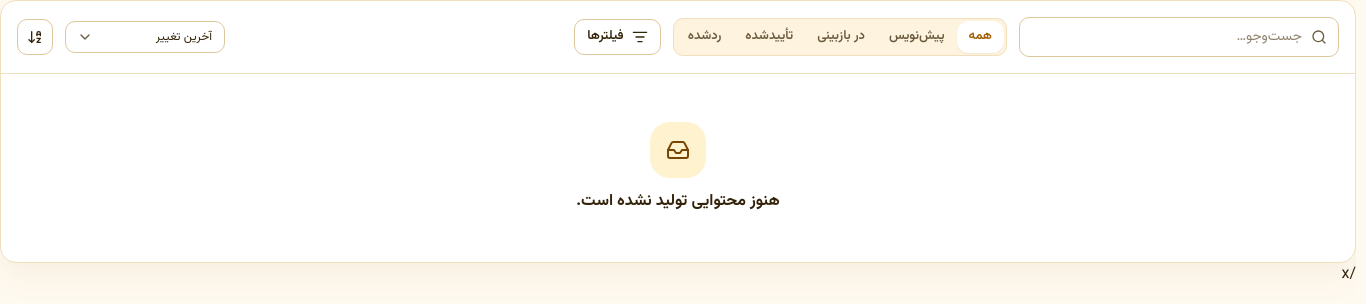
Test: ContentsTable filters › turns the status shortcut into a one-status filter
Click the button "در بازبینی".
click(841, 37)  # box [805,21,877,53]
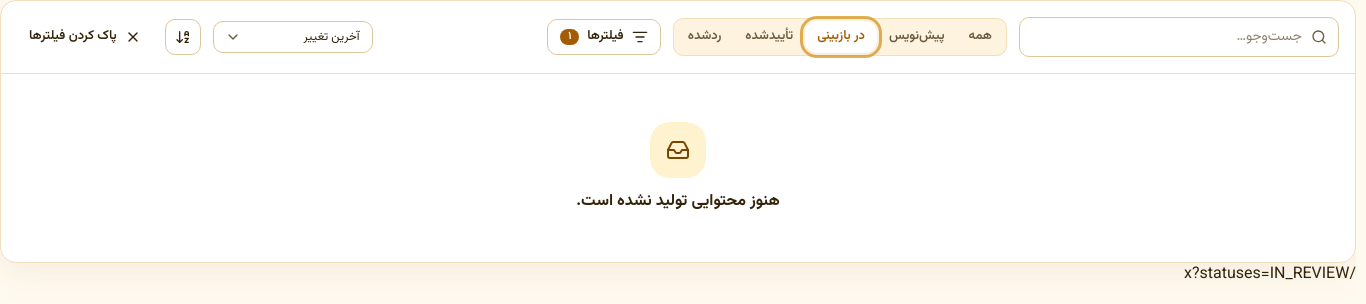
Now the text with test id "where" reads "/x?statuses=IN_REVIEW", box [1184,262,1356,287]
